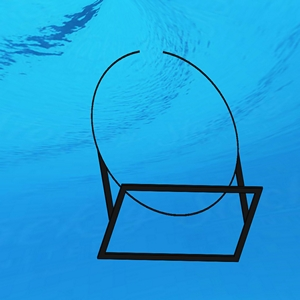circle: (90, 49, 266, 266)
